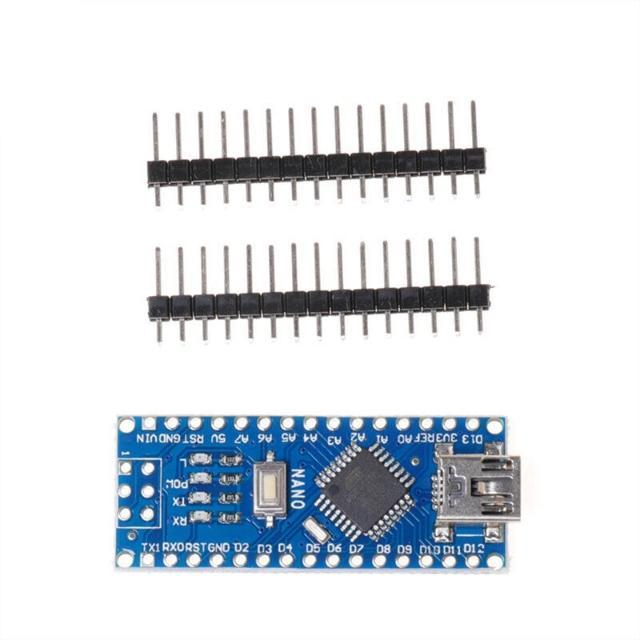Arduino-Nano: (116, 417, 520, 571)
